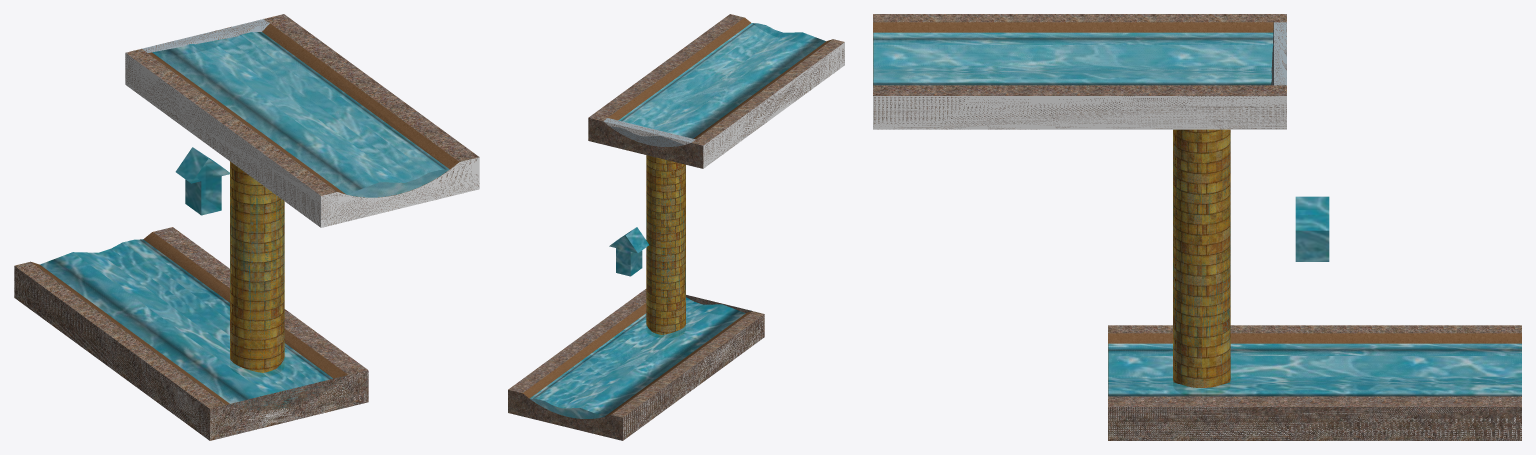
File: Battery.fbx
3 renders of one model, left to right at view 1: azimuth 30°, elevation 25°; view 2: azimuth 150°, elevation 25°; view 3: azimuth 270°, elevation 25°, orthographic. The views are drawn at different scales.
Visible parts, largest first — view 1: Model; view 2: Model; view 3: Model.
Part boxes in pixels (x1,y1,x2,y2): Model: [14, 14, 479, 440]; Model: [508, 14, 844, 440]; Model: [873, 14, 1521, 440].
Size of the model in its own units: 65.1 by 128 by 218.
